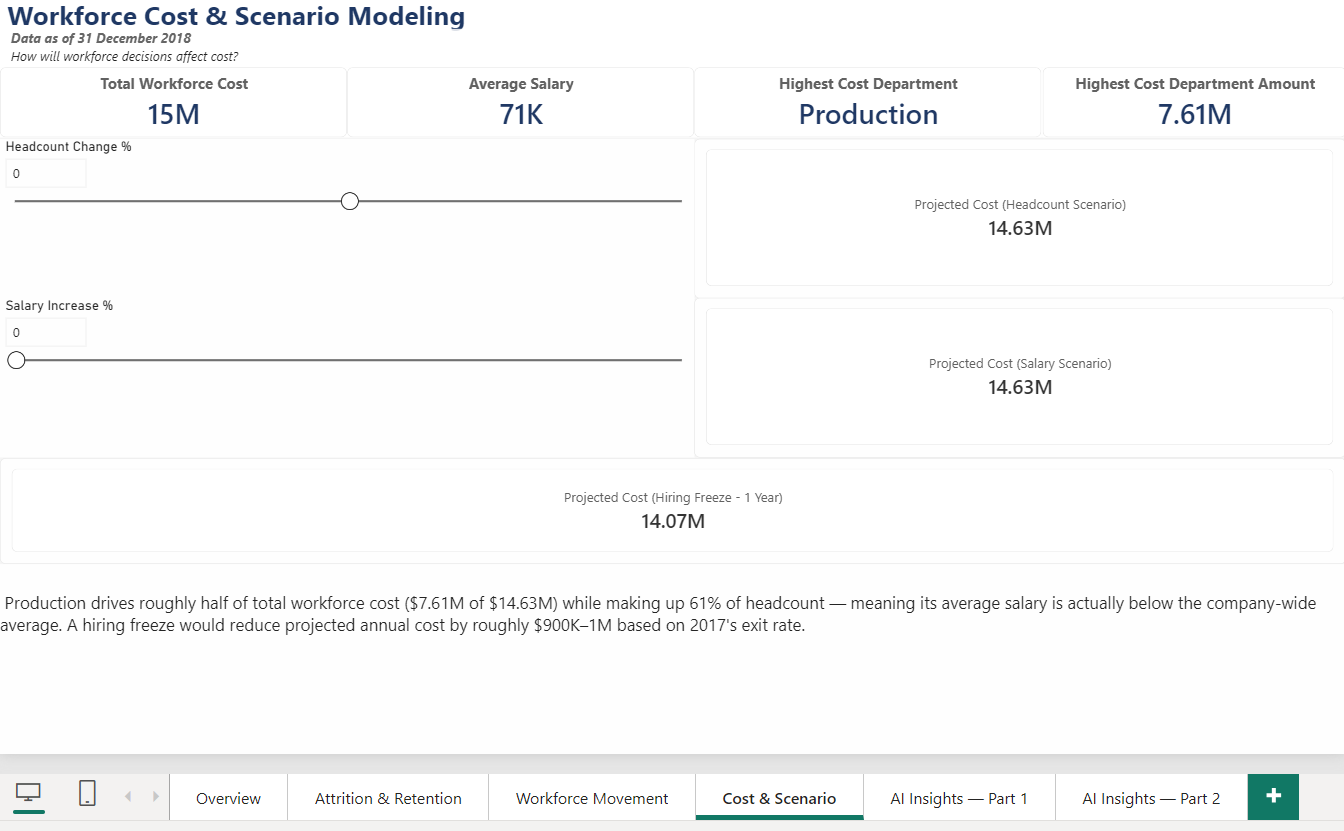

The page's visual inventory and layout, read from the dashboard file:
{"tool":"powerbi","page":{"name":"Cost & Scenario","canvas":[1920,1080],"ordinal":3},"visuals":[{"type":"group","id":"g1","title":"Group 1","box":[0,0,1920.8,100.2],"z":0},{"type":"textbox","box":[0,0,1920.8,73.6],"z":0,"group":"g1"},{"type":"textbox","box":[0,45.4,1920.8,54.8],"z":1000,"group":"g1"},{"type":"cardVisual","fields":{"Data":["HRDataset_v14.Total Workforce Cost"]},"box":[0,100.2,495,100],"z":1000,"group":"g2"},{"type":"cardVisual","title":"Exits by Department","fields":{"Data":["HRDataset_v14.Projected Cost (Headcount Scenario)"]},"box":[991.3,202.1,929.6,227.6],"z":1000},{"type":"group","id":"g2","title":"Group 2","box":[0,100.2,1920.8,100.2],"z":2000},{"type":"cardVisual","title":"Total New Hires (All-Time","fields":{"Data":["HRDataset_v14.Average Salary"]},"box":[495.7,100.2,495,100],"z":2000,"group":"g2"},{"type":"cardVisual","fields":{"Data":["HRDataset_v14.Highest Cost Department"]},"box":[991.4,100.2,495,100],"z":3000,"group":"g2"},{"type":"slicer","fields":{"Values":["Headcount Change %.Headcount Change %"]},"box":[0,202.1,991.3,227.6],"z":3000},{"type":"cardVisual","fields":{"Data":["HRDataset_v14.Highest Cost Department Amount"]},"box":[1487.1,100.2,433.7,100.7],"z":4000,"group":"g2"},{"type":"slicer","fields":{"Values":["Salary Increase %.Salary Increase %"]},"box":[0,429.7,991.3,227.6],"z":4000},{"type":"cardVisual","title":"Exits by Department","fields":{"Data":["HRDataset_v14.Projected Cost (Salary Scenario)"]},"box":[991.3,429.7,929.6,227.6],"z":5000},{"type":"cardVisual","fields":{"Data":["HRDataset_v14.Projected Cost (Hiring Freeze - 1 Year)"]},"box":[0,657.3,1920.9,151],"z":6000},{"type":"textbox","box":[0,808.4,1920.9,272.3],"z":7000}]}

Visuals, with their boxes on the page's 1920x1080 design canvas (x1, y1, x2, y2). These are canvas units, not pixel positions in the 1344x831 screenshot, which may show the page scaled, cropped or inside an application window:
"Group 1" group: BBox(0, 0, 1921, 100)
textbox: BBox(0, 0, 1921, 74)
textbox: BBox(0, 45, 1921, 100)
cardVisual - HRDataset_v14.Total Workforce Cost: BBox(0, 100, 495, 200)
"Exits by Department" cardVisual: BBox(991, 202, 1921, 430)
"Group 2" group: BBox(0, 100, 1921, 200)
"Total New Hires (All-Time" cardVisual: BBox(496, 100, 991, 200)
cardVisual - HRDataset_v14.Highest Cost Department: BBox(991, 100, 1486, 200)
slicer - Headcount Change %.Headcount Change %: BBox(0, 202, 991, 430)
cardVisual - HRDataset_v14.Highest Cost Department Amount: BBox(1487, 100, 1921, 201)
slicer - Salary Increase %.Salary Increase %: BBox(0, 430, 991, 657)
"Exits by Department" cardVisual: BBox(991, 430, 1921, 657)
cardVisual - HRDataset_v14.Projected Cost (Hiring Freeze - 1 Year): BBox(0, 657, 1921, 808)
textbox: BBox(0, 808, 1921, 1081)
